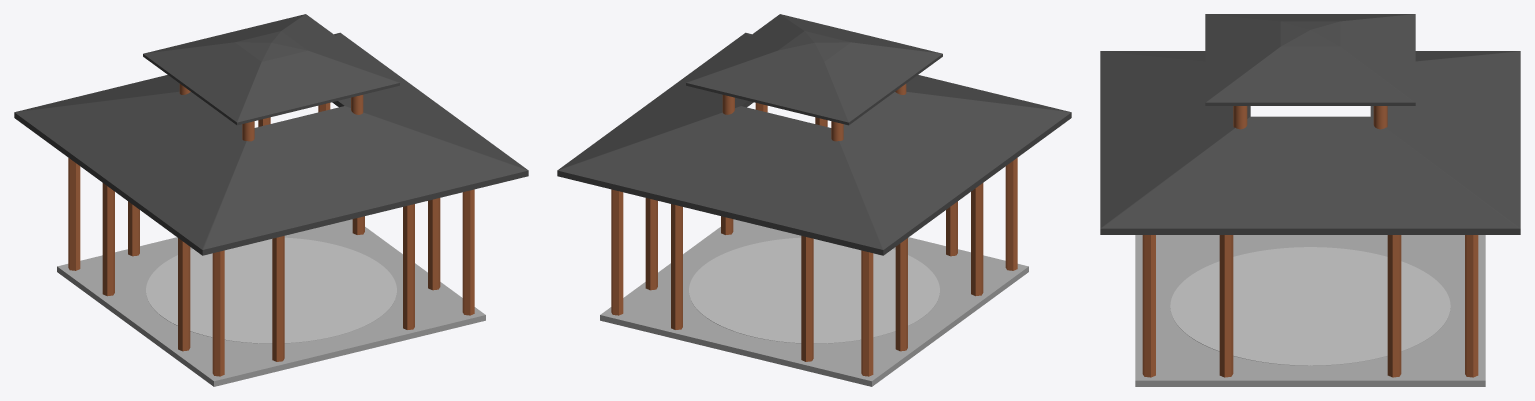
The model's file is temple.fbx.
The picture shows the model from 3 angles, left to right: view 1: azimuth 30°, elevation 25°; view 2: azimuth 150°, elevation 25°; view 3: azimuth 270°, elevation 25°; orthographic projection. The views are drawn at different scales.
Visible parts, largest first — view 1: roof1, baseCircle, baseCube, roof2, pill6, pill8, pill5, pill7, pill2, pill3, pill4, pill9 (+1 smaller); view 2: roof1, baseCircle, baseCube, roof2, pill11, pill1, pill3, pill12, pill4, pill5, pill2, pill10 (+1 smaller); view 3: roof1, baseCircle, baseCube, roof2, pill10, pill9, pill8, pill11.
Boxes of the visible parts, x1,y1,x2,y2 form: roof1: (14, 32, 528, 255); baseCircle: (146, 237, 396, 343); baseCube: (57, 219, 485, 386); roof2: (143, 14, 399, 125); pill6: (272, 236, 284, 361); pill8: (462, 189, 474, 315); pill5: (212, 250, 224, 376); pill7: (403, 204, 414, 329); pill2: (102, 183, 114, 296); pill3: (68, 158, 80, 270); pill4: (178, 238, 190, 351); pill9: (428, 198, 440, 290); roof1: (557, 32, 1071, 255); baseCircle: (689, 237, 939, 343); baseCube: (600, 219, 1028, 386); roof2: (686, 14, 942, 125); pill11: (611, 189, 623, 315); pill1: (801, 236, 813, 361); pill3: (861, 250, 873, 376); pill12: (671, 204, 682, 329); pill4: (971, 183, 983, 296); pill5: (1005, 158, 1017, 270); pill2: (895, 238, 907, 351); pill10: (645, 198, 657, 290); roof1: (1100, 51, 1520, 234); baseCircle: (1170, 247, 1450, 365); baseCube: (1135, 235, 1485, 386); roof2: (1205, 14, 1415, 105); pill10: (1387, 235, 1401, 377); pill9: (1219, 235, 1233, 377); pill8: (1142, 235, 1155, 377); pill11: (1465, 235, 1478, 377).
Size of the model in its own units: 60 by 44.59 by 60.
